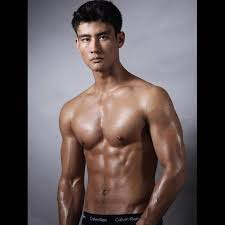asian_male: (64, 1, 130, 81)
